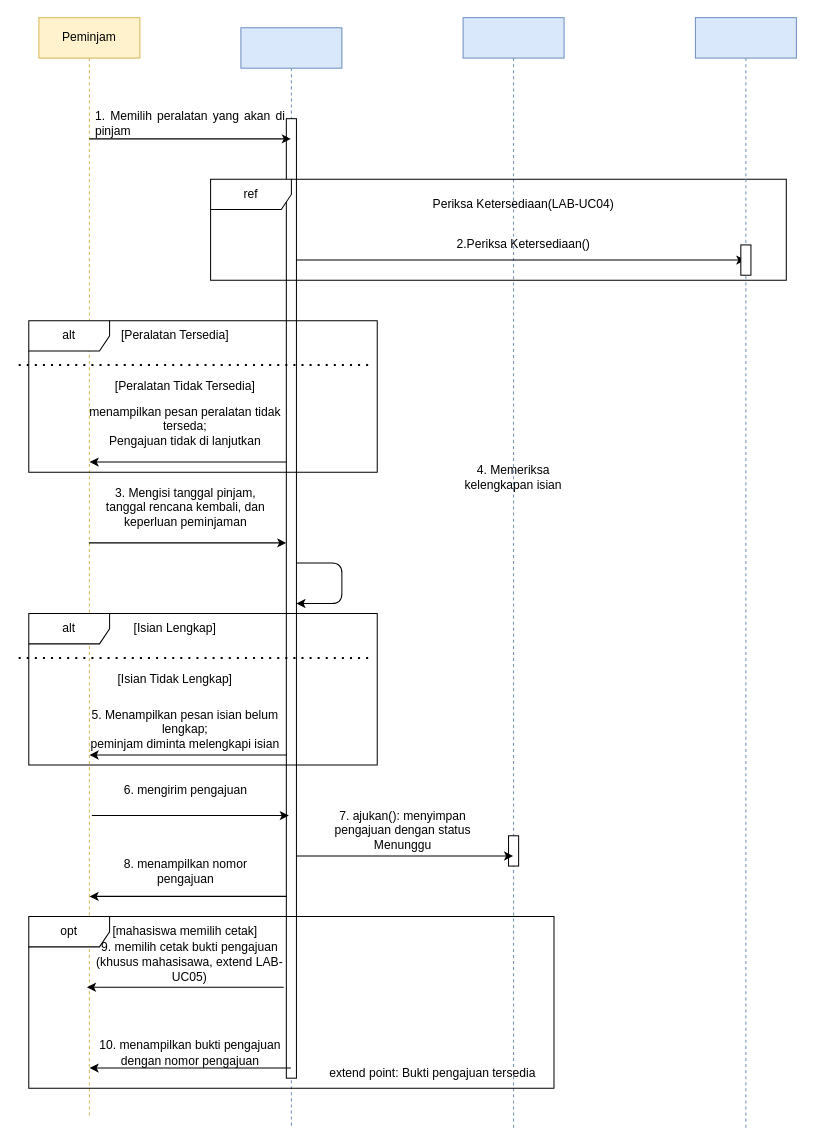
Image size: 814x1146. Some labels were removed from this diagram. The box of each missing label's shape, as (x1, y1, x2, y2) in pixels:
:Peminjaman: (462, 17, 564, 1129)
:Peralatan: (694, 17, 796, 1129)
:Sistem Peminjaman: (240, 27, 342, 1129)
